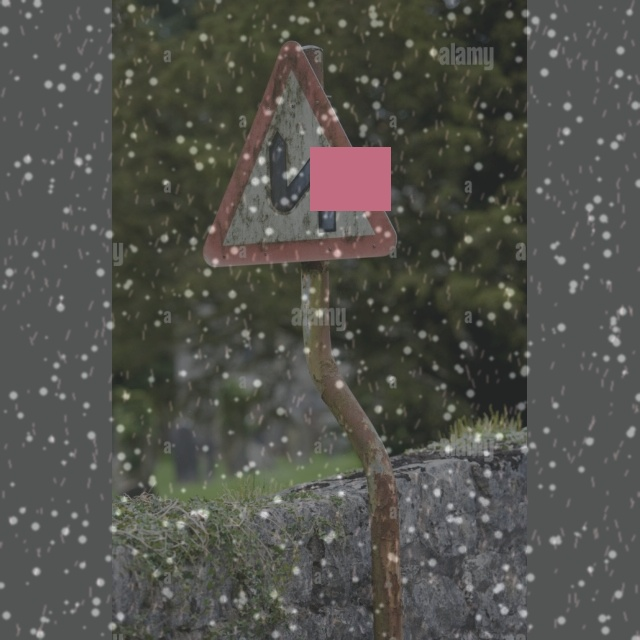Left_Reverse_Bend: (202, 41, 401, 264)
